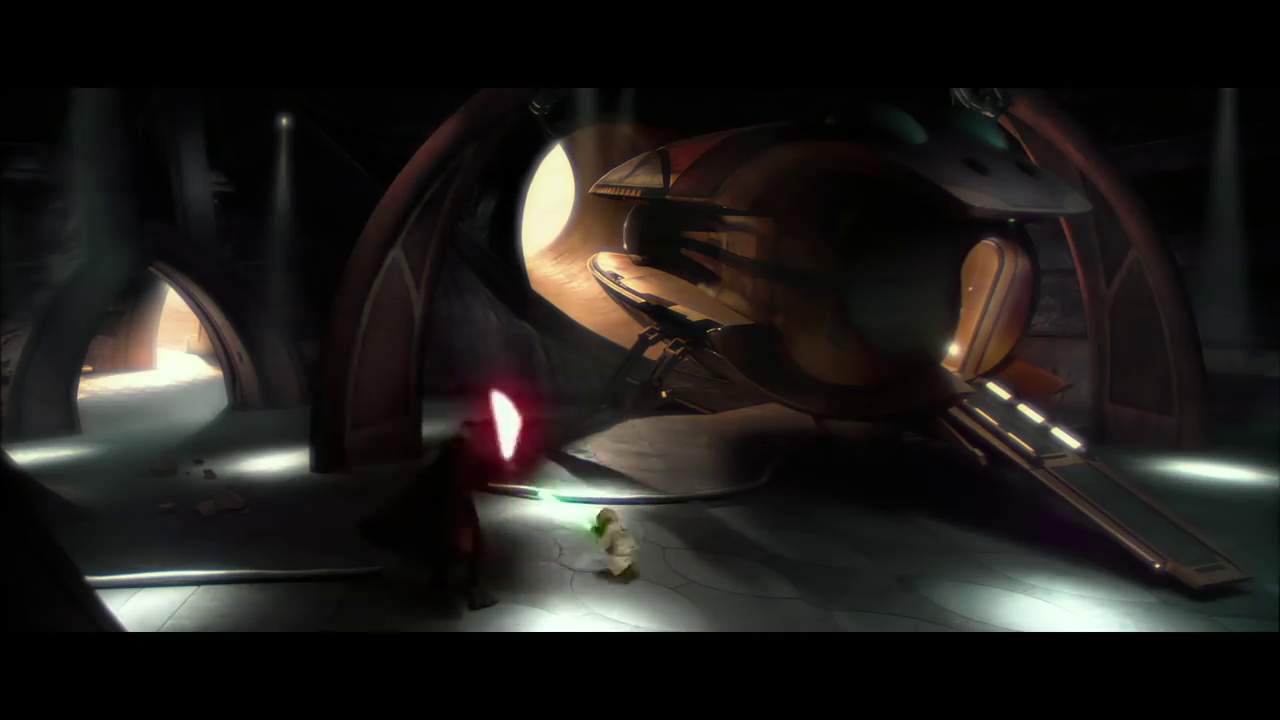lightsaber: (476, 389, 529, 459)
